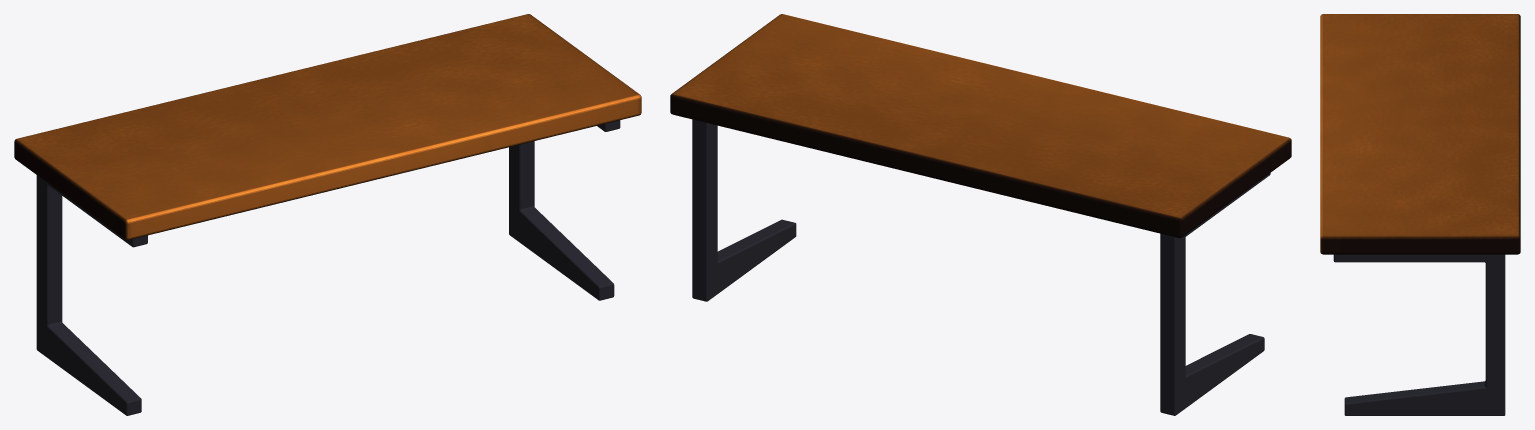
Rendered from Table.gltf.
3 views of the same model, side by side, from view 1: azimuth 30°, elevation 25°; view 2: azimuth 150°, elevation 25°; view 3: azimuth 270°, elevation 25° (orthographic). The views are drawn at different scales.
Visible parts, largest first — view 1: Board, Cube; view 2: Board, Cube; view 3: Board, Cube.
Boxes of the visible parts, left/top/right/bottom form: Board: left=14, top=14, right=641, bottom=240; Cube: left=36, top=120, right=620, bottom=415; Board: left=670, top=14, right=1291, bottom=238; Cube: left=692, top=119, right=1270, bottom=415; Board: left=1320, top=14, right=1520, bottom=254; Cube: left=1333, top=254, right=1505, bottom=415.
Size of the model in its own units: 6.98 by 2.7 by 2.64.
2 materials, 1 textured.
